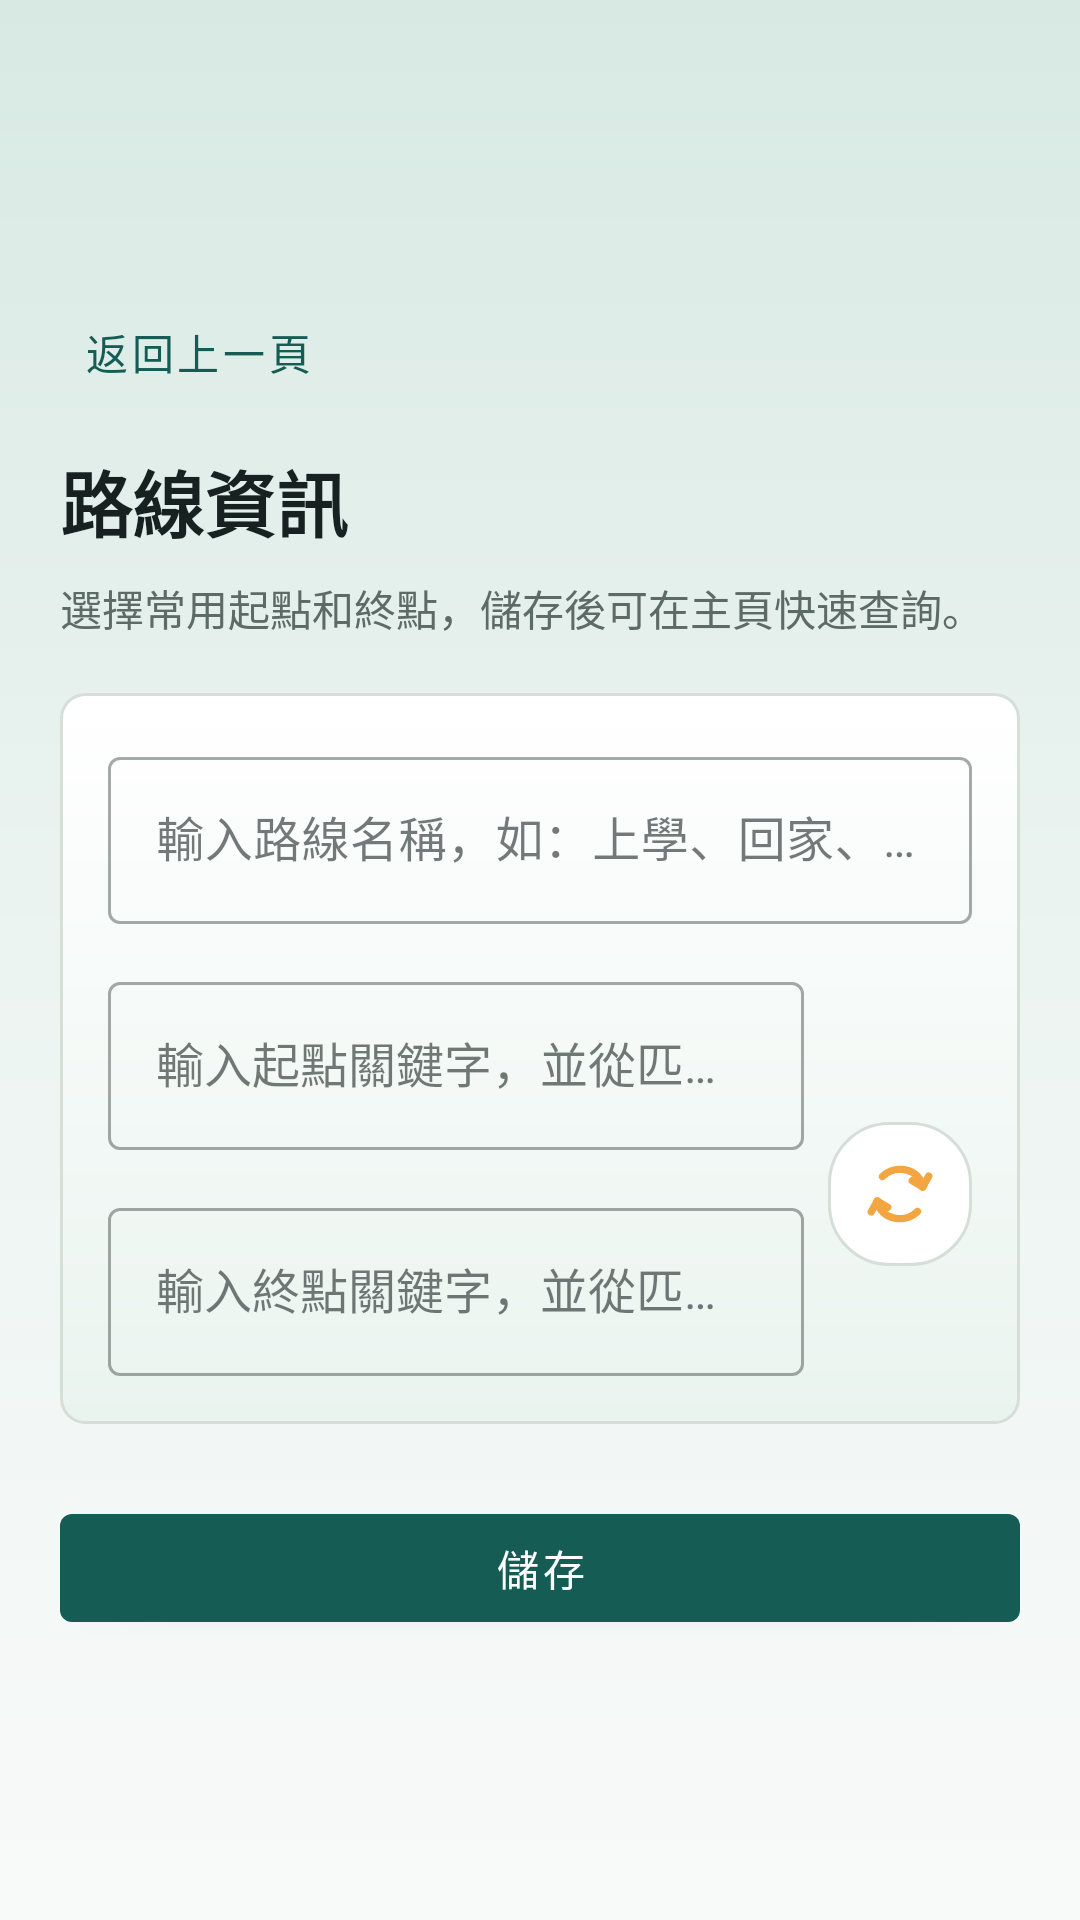

Icons on this 1080*1920 Android screen, each with the point to tap as point (x, y):
交換起點和終點: point (900, 1194)
